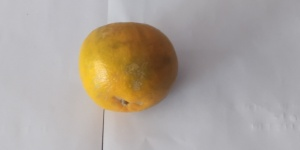BAD: (78, 23, 178, 115)
